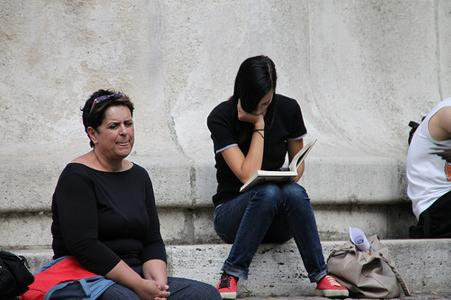person: (206, 56, 350, 300)
